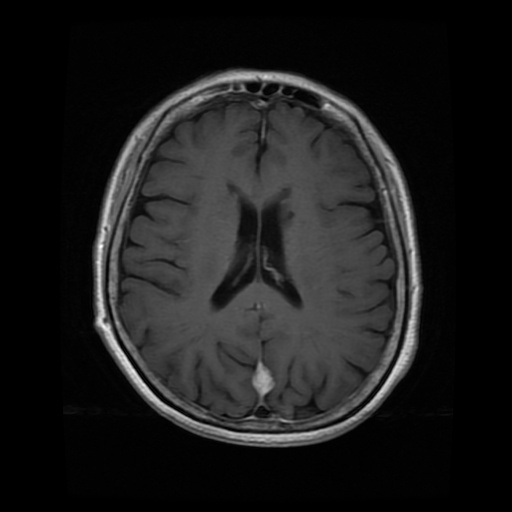meningioma: (253, 361, 273, 394)
